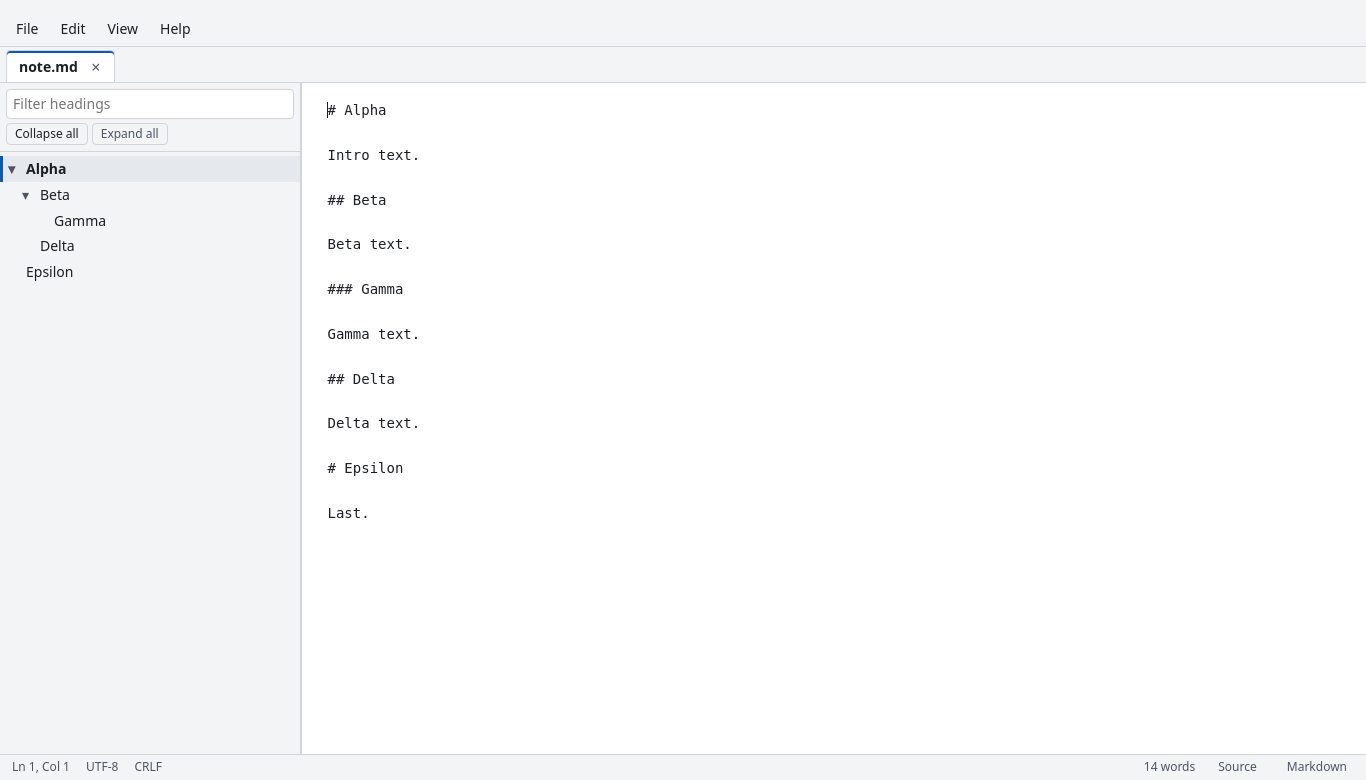
Test: the outline pane › filters the list
expect the element named "Document outline" is shown: met, box x1=0 y1=156 x2=300 y2=281
Type "ta" into the search field labelled "Filter headings".
click(150, 104); type("ta")  # box x1=6 y1=89 x2=294 y2=119
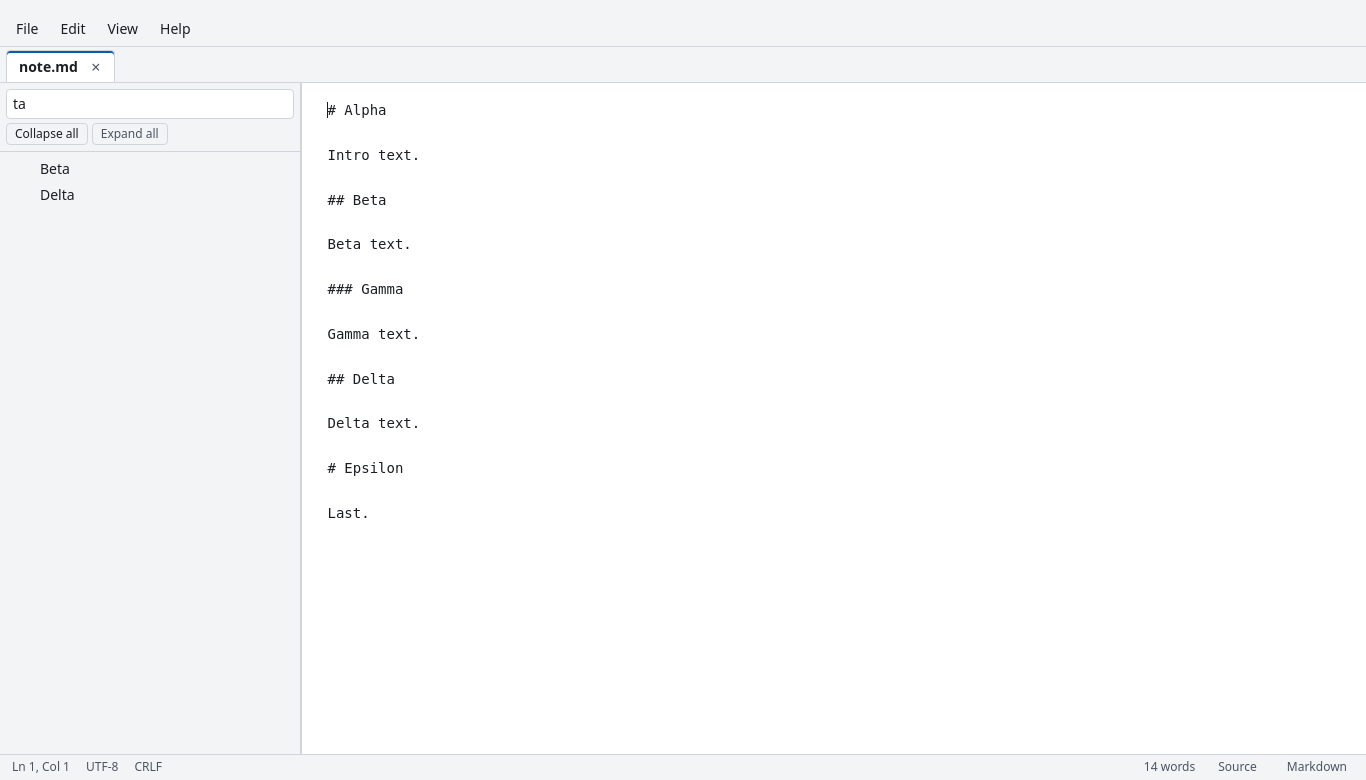
Replace the text in the search field named "Filter headings" with "zzz" at (150,104), box x1=6 y1=89 x2=294 y2=119
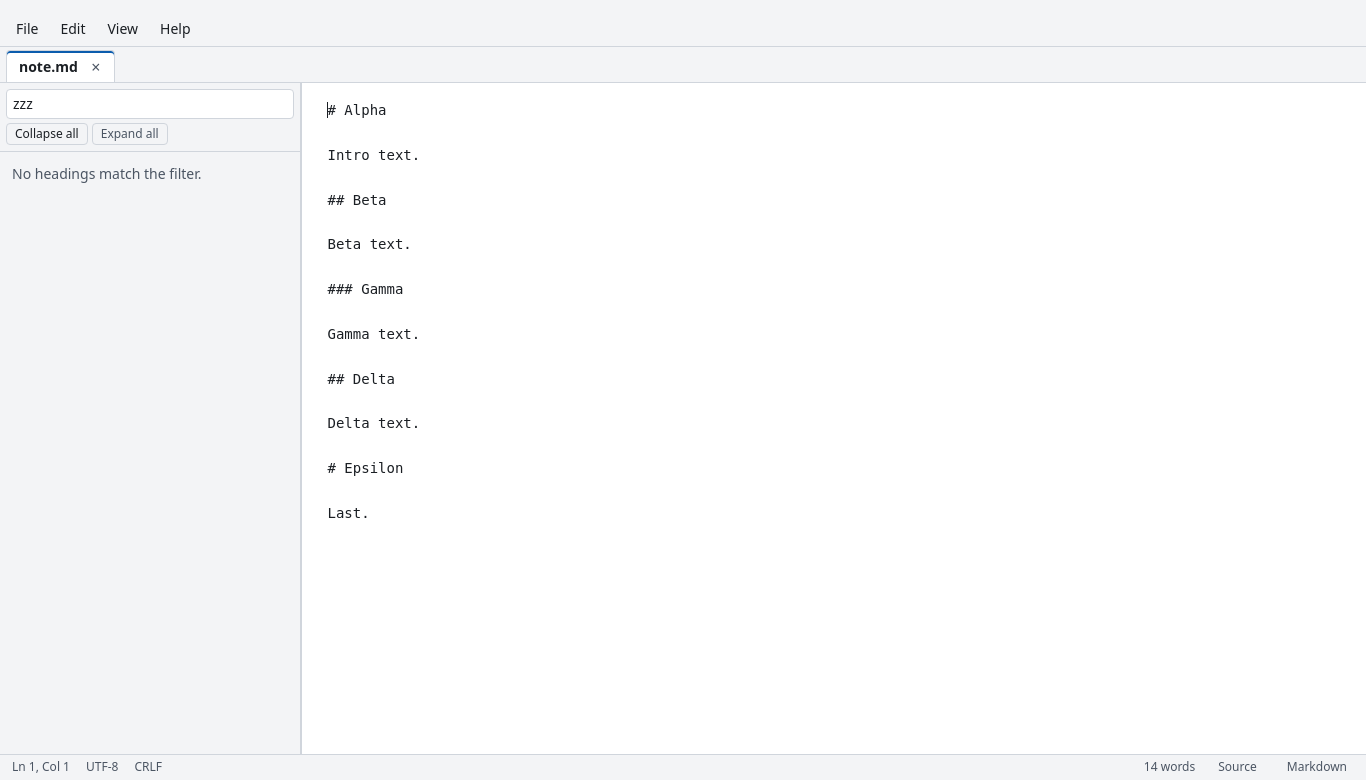
expect the text "No headings match the filter." is shown: met, box x1=12 y1=164 x2=202 y2=183
